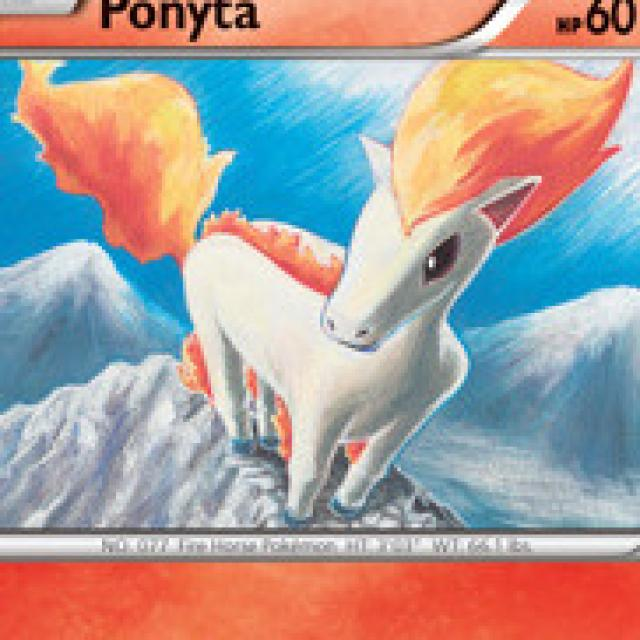Ponyta: (170, 122, 556, 514)
